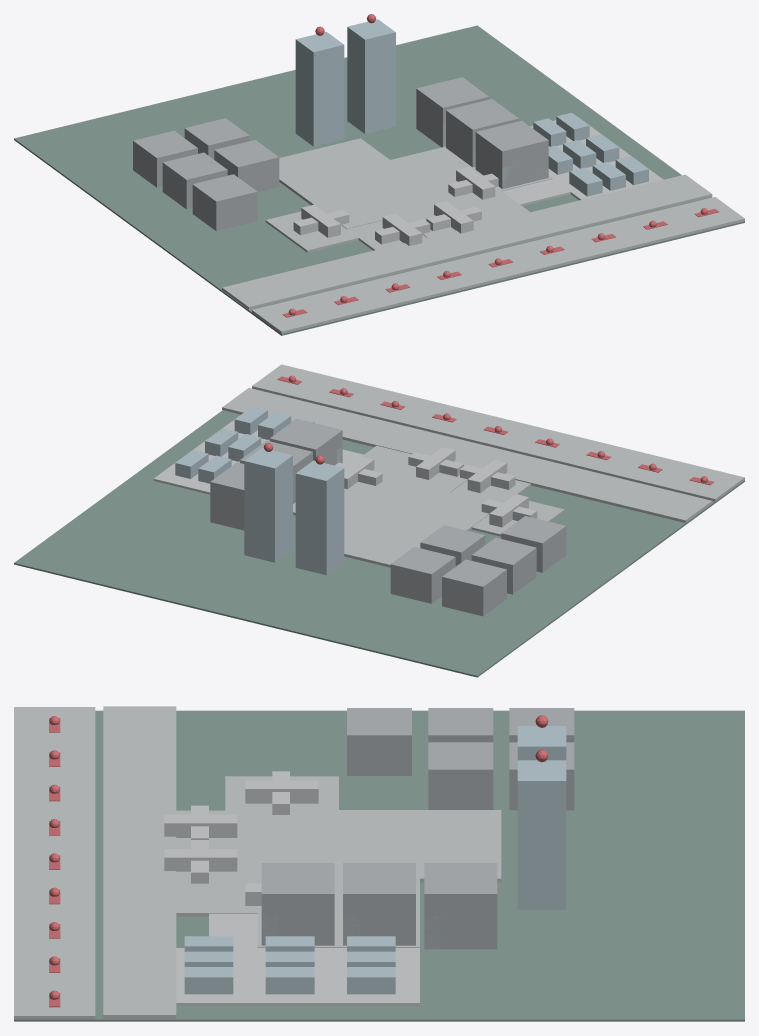
File: stage_24.glb
The picture shows the model from 3 angles, top to bottom: view 1: azimuth 30°, elevation 25°; view 2: azimuth 150°, elevation 25°; view 3: azimuth 270°, elevation 25°; orthographic projection. The views are drawn at different scales.
Parts seen in each view (by area): view 1: geometry_0; view 2: geometry_0; view 3: geometry_0.
Boxes of the visible parts, bbox=[...] form: geometry_0: bbox=[14, 14, 744, 335]; geometry_0: bbox=[14, 364, 744, 677]; geometry_0: bbox=[14, 706, 744, 1021].
Size of the model in its own units: 9 by 2.06 by 9.
